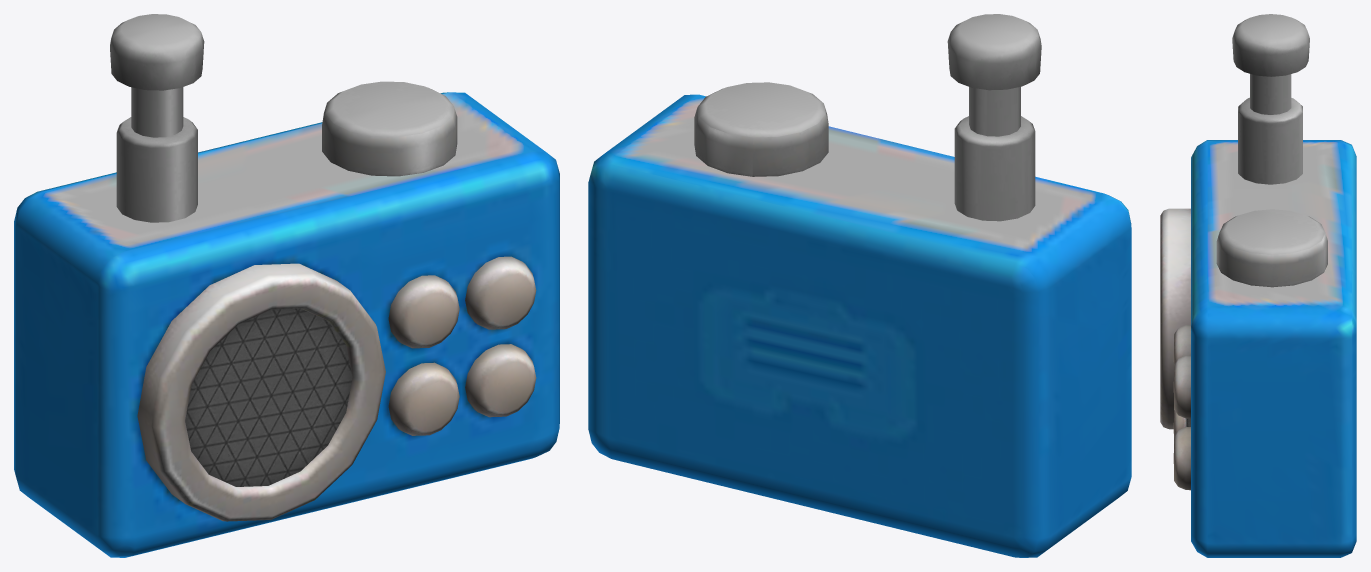
Rendered from 0-radio_blue.fbx.
3 renders of one model, left to right at view 1: azimuth 30°, elevation 25°; view 2: azimuth 150°, elevation 25°; view 3: azimuth 270°, elevation 25°, orthographic. The views are drawn at different scales.
Visible parts, largest first — view 1: 0-radio_blue; view 2: 0-radio_blue; view 3: 0-radio_blue.
Part boxes in pixels (x1,y1,x2,y2): 0-radio_blue: [14, 14, 559, 557]; 0-radio_blue: [588, 14, 1131, 557]; 0-radio_blue: [1160, 14, 1356, 557].
Size of the model in its own units: 91.8 by 91.68 by 41.29.
